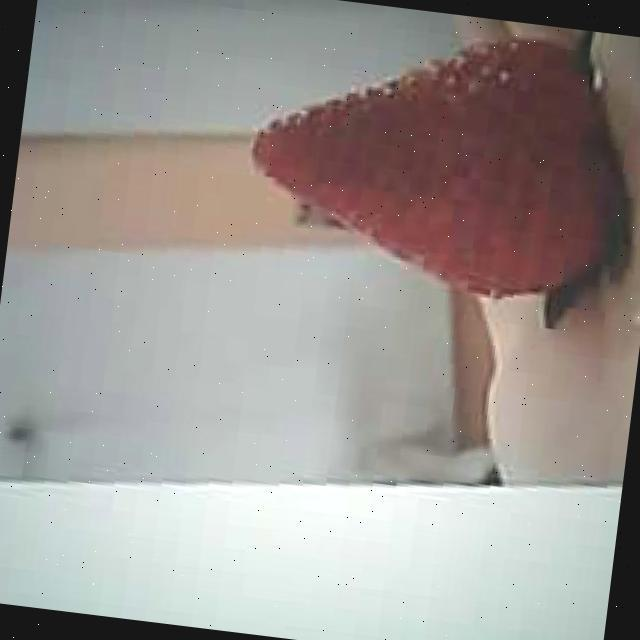ripe: (232, 7, 625, 310)
